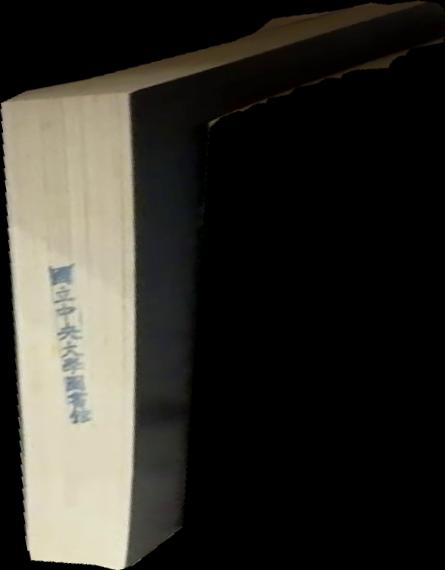backward: (1, 1, 445, 570)
